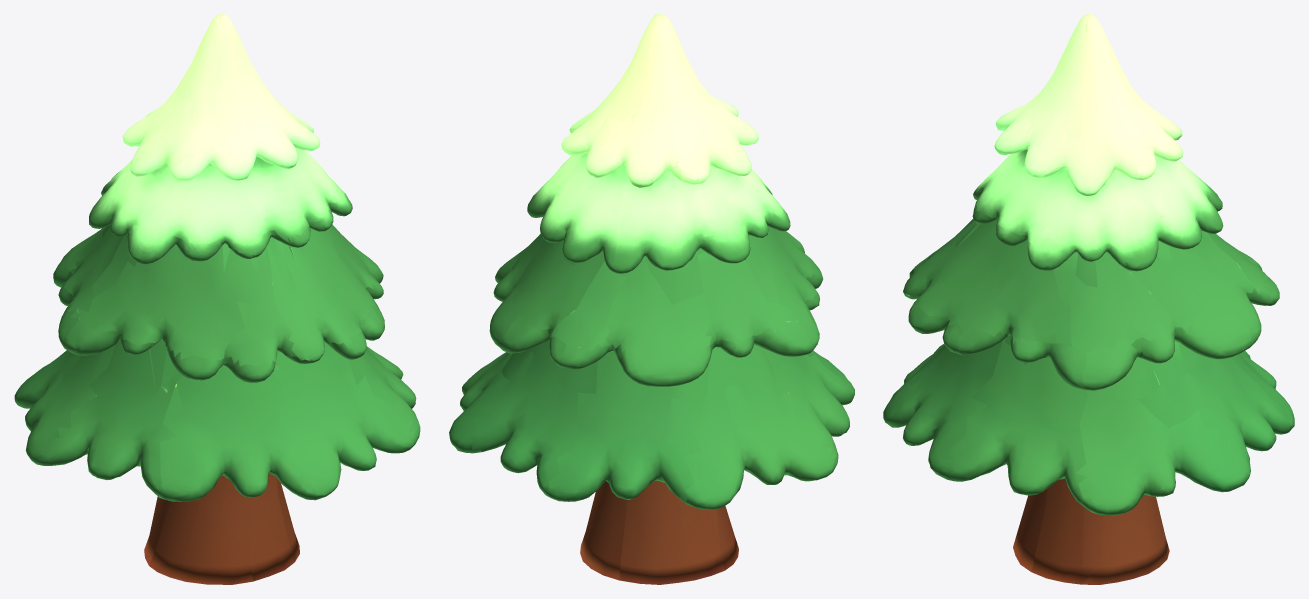
The picture shows the model from 3 angles, left to right: view 1: azimuth 30°, elevation 25°; view 2: azimuth 150°, elevation 25°; view 3: azimuth 270°, elevation 25°; orthographic projection.
Visible parts, largest first — view 1: mesh_node; view 2: mesh_node; view 3: mesh_node.
Part boxes in pixels (x1,y1,x2,y2): mesh_node: [14, 14, 420, 584]; mesh_node: [449, 14, 854, 584]; mesh_node: [883, 14, 1294, 584].
Bounding box in the file's own units: 0.7129 × 1 × 0.6973.
Materials: 1 (1 with a texture image).
